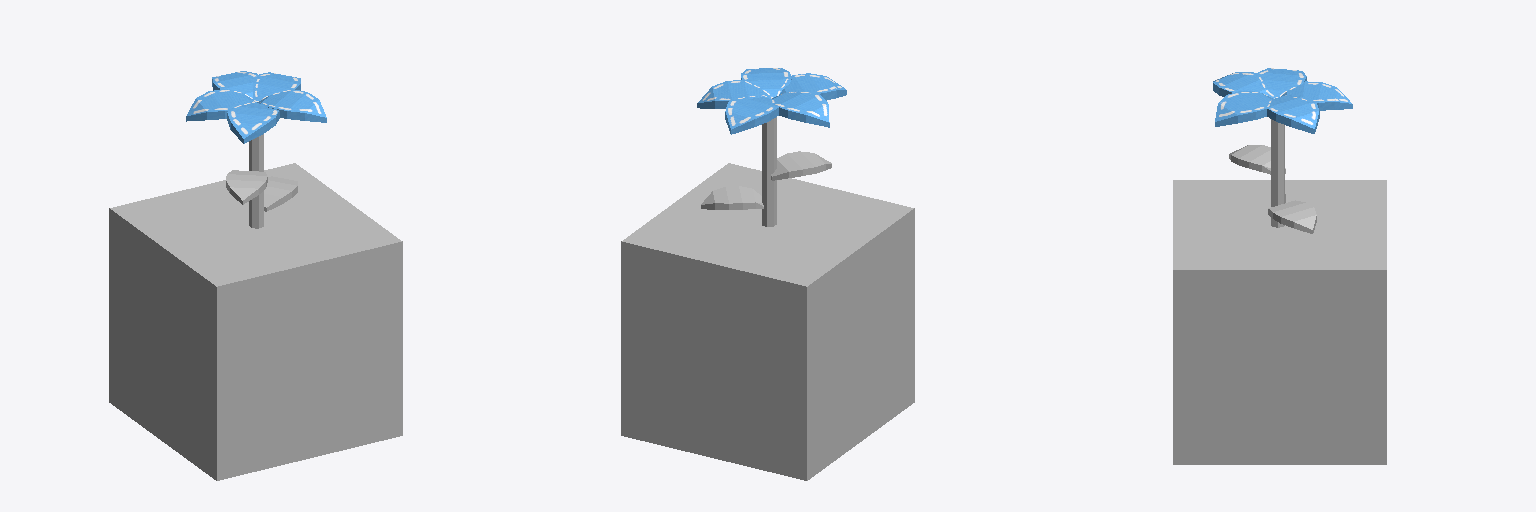
3 renders of one model, left to right at view 1: azimuth 30°, elevation 25°; view 2: azimuth 150°, elevation 25°; view 3: azimuth 270°, elevation 25°, orthographic.
Parts seen in each view (by area): view 1: Box006; view 2: Box006; view 3: Box006.
Boxes of the visible parts, x1,y1,x2,y2 form: Box006: [109, 71, 402, 480]; Box006: [621, 68, 914, 480]; Box006: [1173, 68, 1386, 464].
Size of the model in its own units: 0.254 by 0.4267 by 0.254.
Materials: 3 (1 with a texture image).